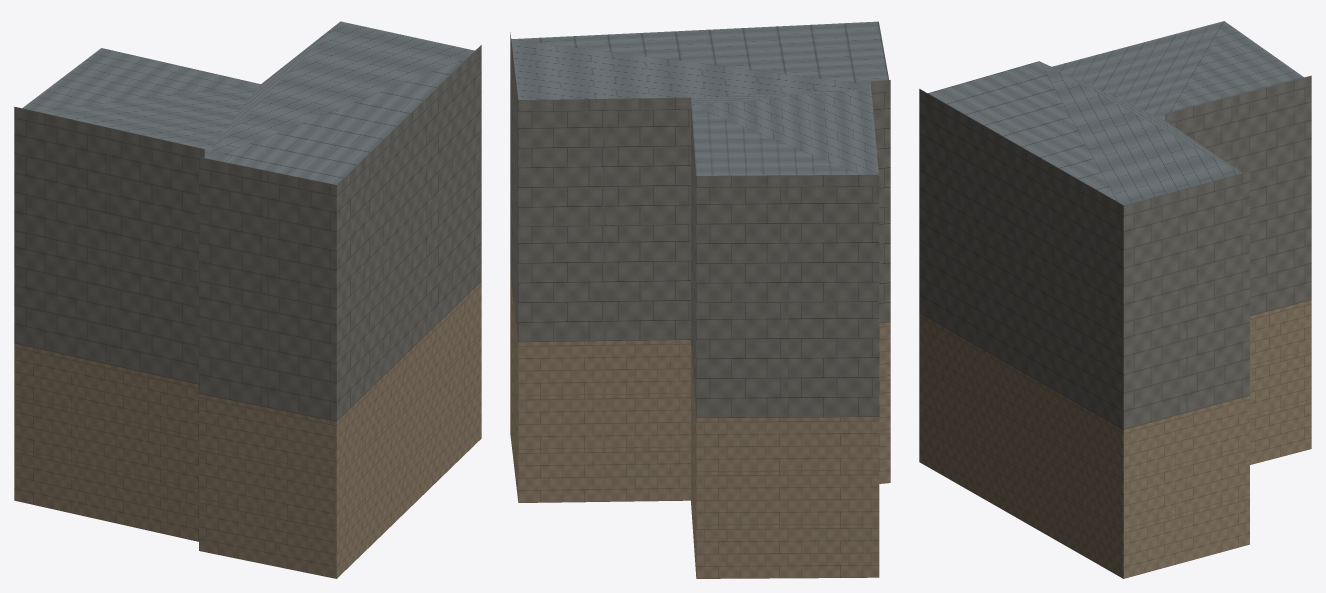
File: bld_c29_-54_546.gltf
3 views of the same model, side by side, from view 1: azimuth 30°, elevation 25°; view 2: azimuth 150°, elevation 25°; view 3: azimuth 270°, elevation 25° (orthographic). The views are drawn at different scales.
Parts seen in each view (by area): view 1: bld_c29_-54_546; view 2: bld_c29_-54_546; view 3: bld_c29_-54_546.
Part boxes in pixels (left/top/right/bottom): bld_c29_-54_546: left=14, top=21, right=481, bottom=578; bld_c29_-54_546: left=510, top=21, right=890, bottom=578; bld_c29_-54_546: left=919, top=21, right=1311, bottom=578.
Size of the model in its own units: 14.05 by 12.78 by 12.16.
4 materials, 4 textured.
